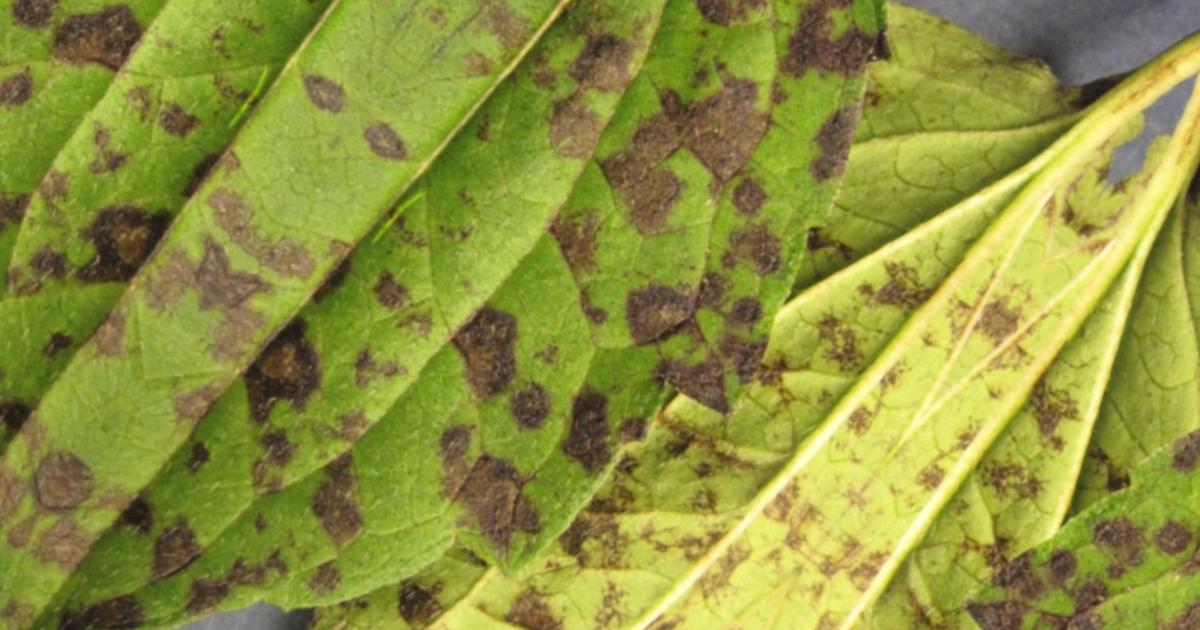Tomato Septoria leaf spot: (0, 0, 1060, 630), (185, 0, 1164, 630)
